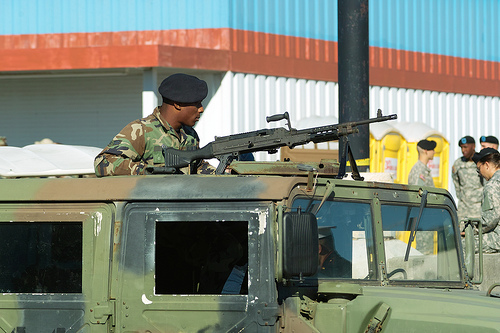rifle: (196, 114, 397, 170)
